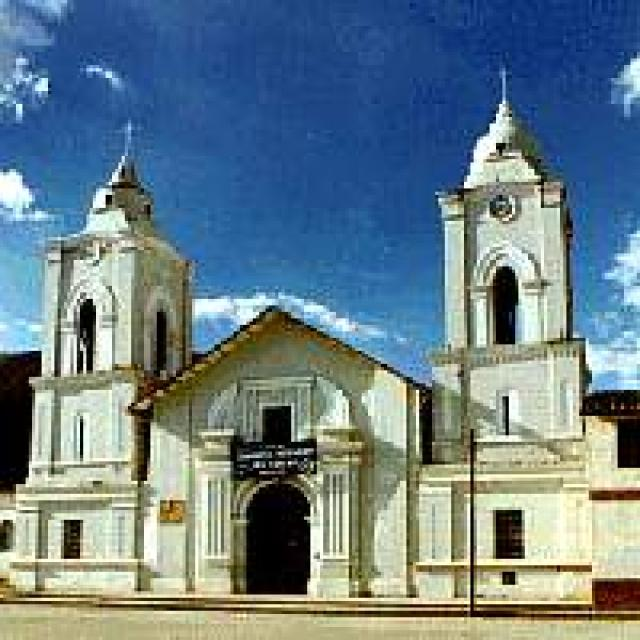CAMPANARIO: (435, 192, 577, 368), (41, 225, 193, 387)
CUPULA: (453, 105, 573, 199), (73, 160, 170, 240)
PORTADA CENTRAL: (227, 459, 331, 619)
SIMETRIA COLONIAL: (0, 50, 635, 633)
TORRES: (430, 61, 601, 619), (35, 112, 195, 609)
colonial-architecture-: (15, 54, 610, 626)
